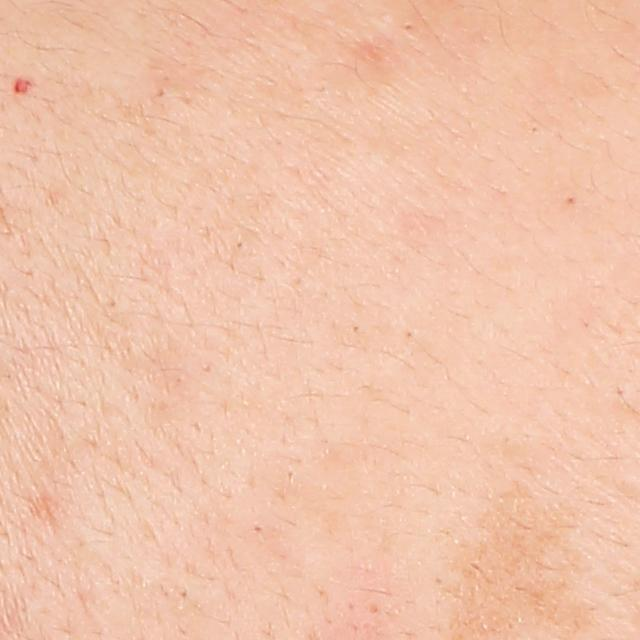comedo: (560, 187, 581, 213)
